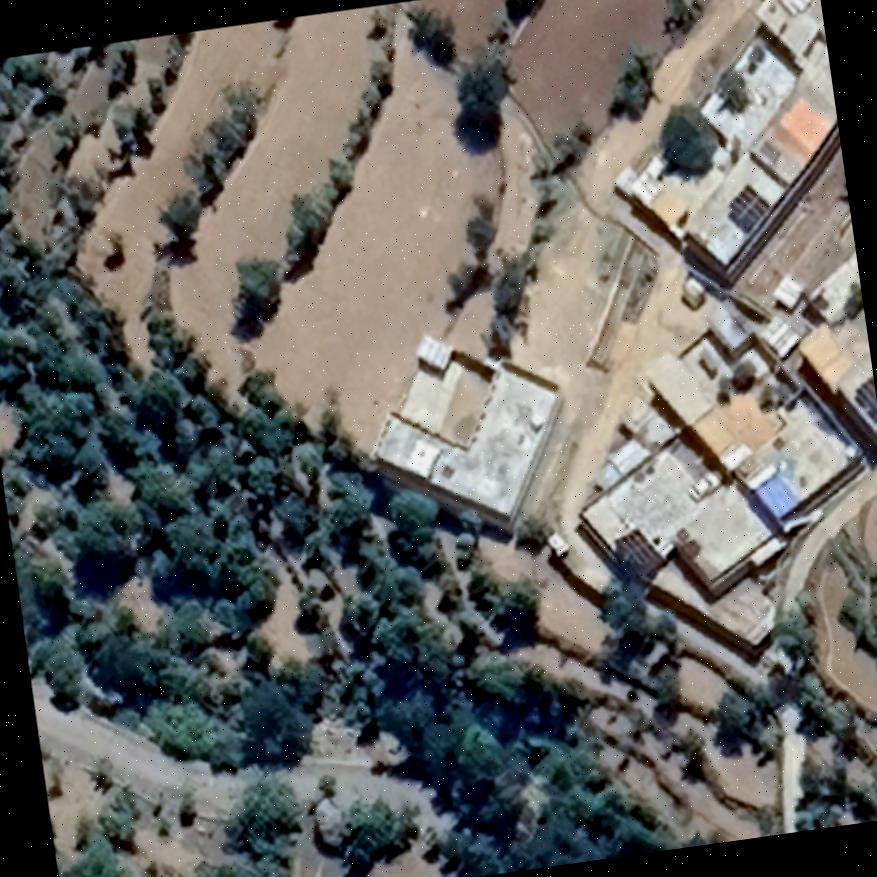Solarpanel: (607, 523, 667, 581), (719, 177, 777, 237), (847, 373, 877, 427)
